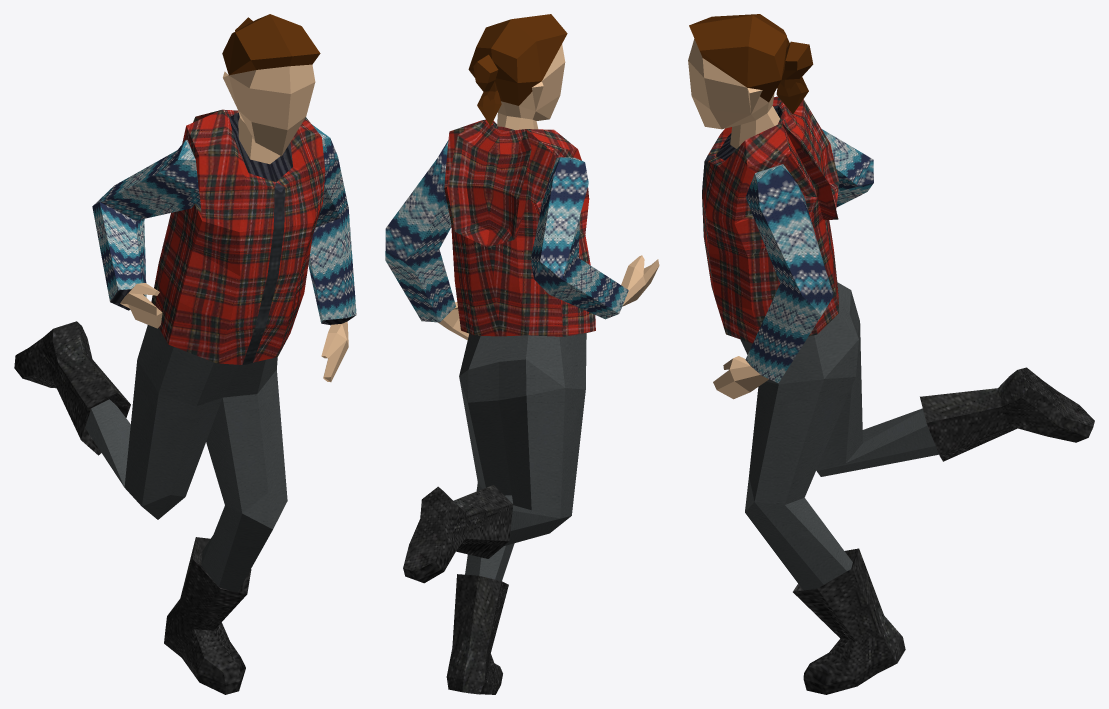
Rendered from AutumnGirl.006.glb.
3 views of the same model, side by side, from view 1: azimuth 30°, elevation 25°; view 2: azimuth 150°, elevation 25°; view 3: azimuth 270°, elevation 25° (orthographic). The views are drawn at different scales.
Parts seen in each view (by area): view 1: AutumnGirl.006; view 2: AutumnGirl.006; view 3: AutumnGirl.006.
Part boxes in pixels (x1=…): AutumnGirl.006: x1=14, y1=14, x2=356, y2=694; AutumnGirl.006: x1=385, y1=14, x2=659, y2=694; AutumnGirl.006: x1=688, y1=14, x2=1094, y2=694.
Bounding box in the file's own units: 0.6383 × 1.71 × 0.9323.
1 material, 1 textured.
